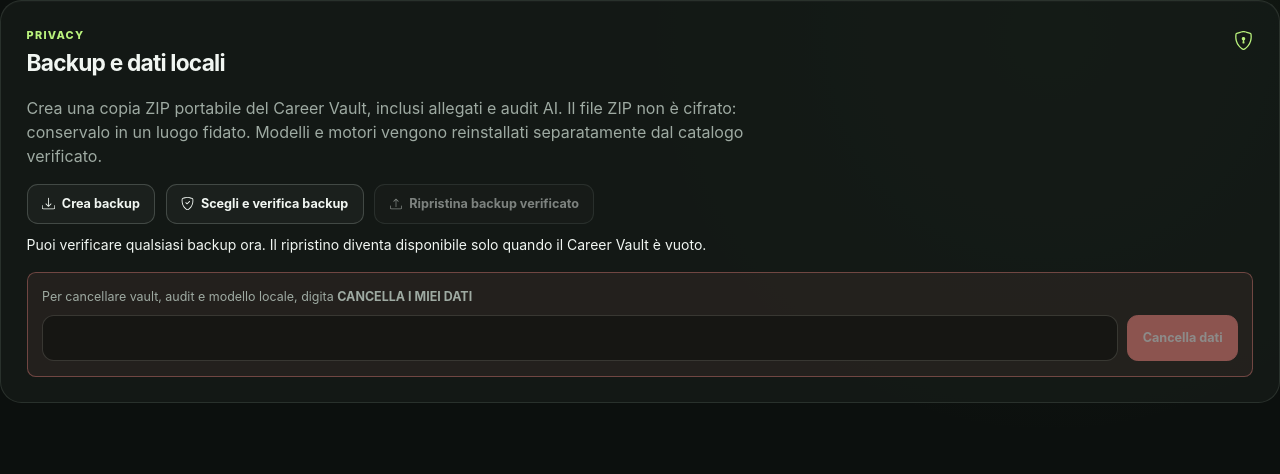
Test: DataRecoveryPanel › reports a native picker failure and prevents overlapping dialogs
The image size is (1280, 474).
Click the button "Scegli e verifica backup". click: x=265, y=204
box: [166,184,364,224]
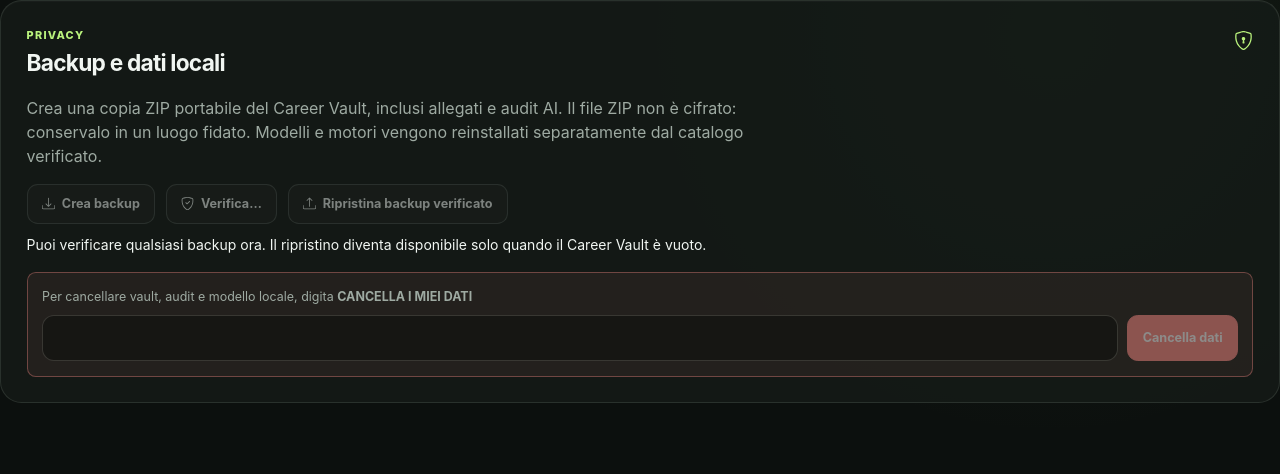
Click the button named "Scegli e verifica backup". click: x=221, y=204
box: [166,184,277,224]
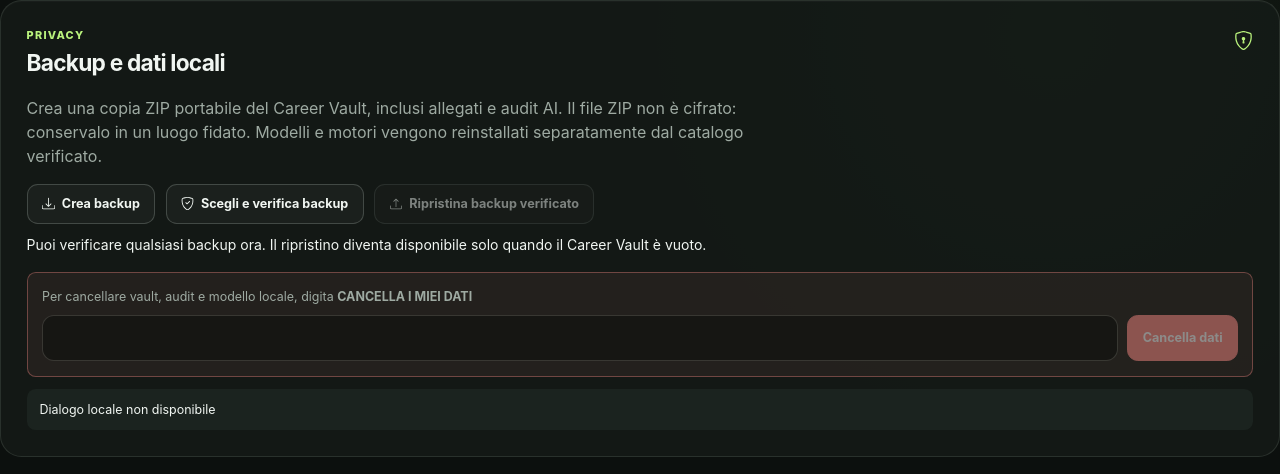
Now the message reads "Dialogo locale non disponibile", box [39,402,216,416]
Now the button "Scegli e verifica backup" is enabled, box [166,184,364,224]
